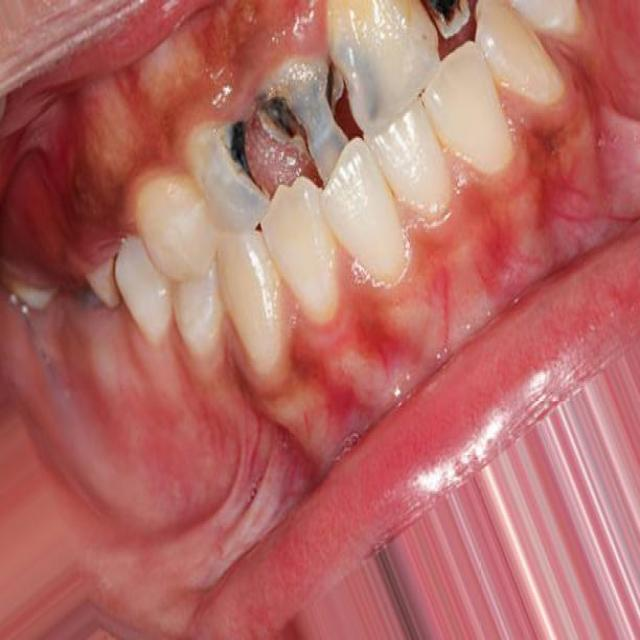caries: (254, 51, 369, 184), (188, 110, 268, 238), (419, 0, 478, 47)
